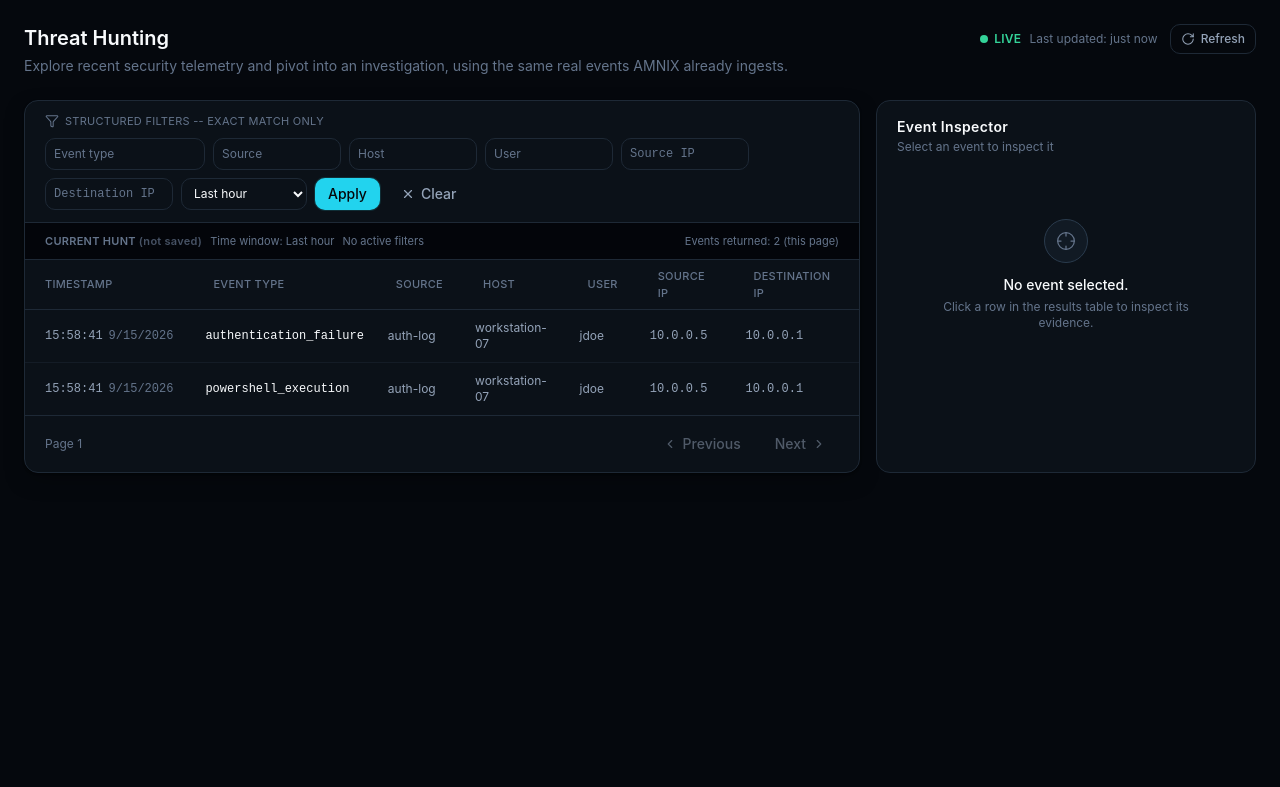
Test: Step 12Y: Threat Hunting Linked Alerts integration (GET /events/{id}/alerts) › renders real linked alerts once selected, and re-fetches for a newly selected event
Click the text "authentication_failure": (285, 336) [193, 310, 376, 362]
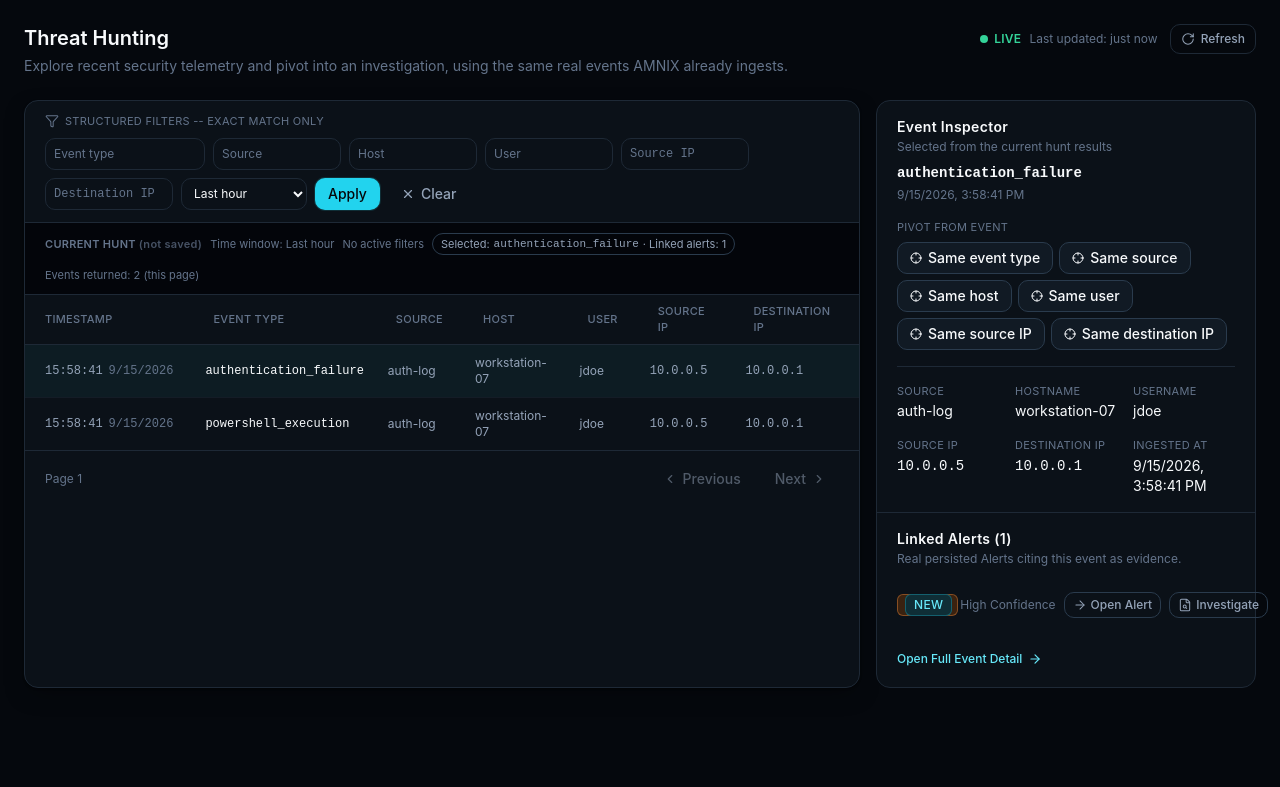
Click the text "powershell_execution": (285, 423) [193, 397, 376, 450]
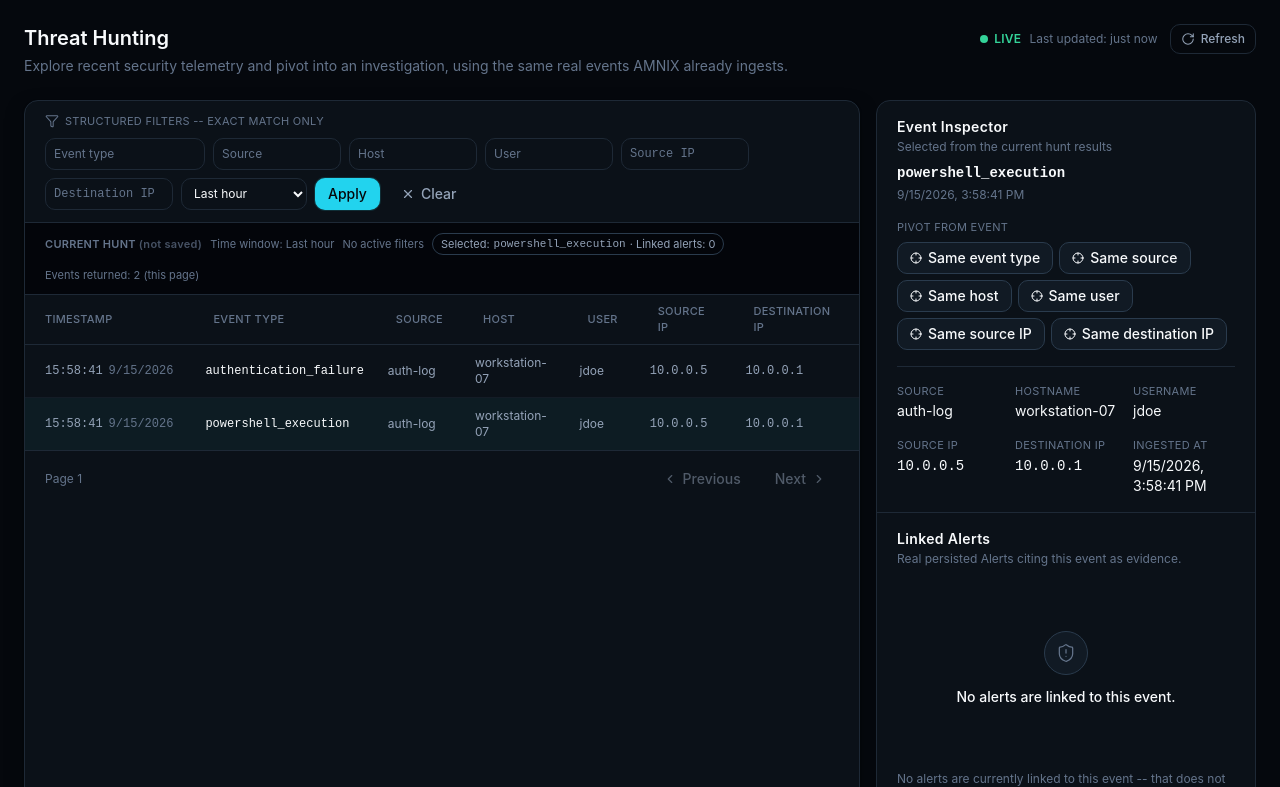
Now the text "No alerts are linked to this event." is shown, box [956, 686, 1175, 706]
